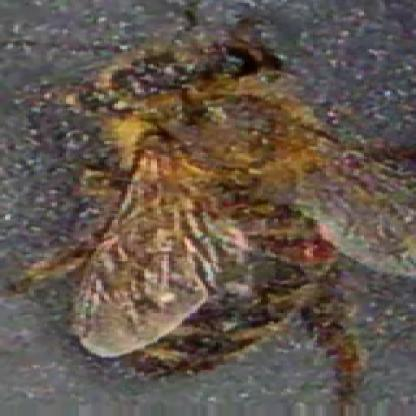bee: (81, 31, 360, 370)
vaoora: (303, 242, 334, 263)
